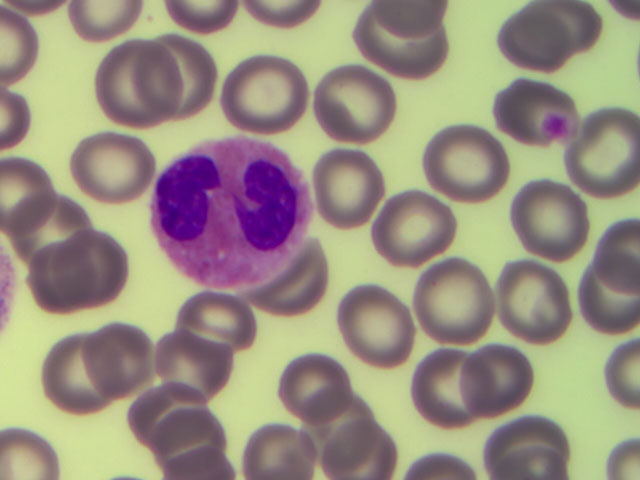Platelets: (540, 110, 574, 147)
RBC: (353, 1, 450, 89), (492, 4, 603, 76), (335, 278, 416, 370), (365, 185, 457, 264), (416, 121, 508, 199), (316, 59, 399, 145), (224, 53, 312, 134), (495, 260, 576, 347), (516, 176, 592, 266), (151, 23, 218, 122), (105, 41, 182, 127), (36, 336, 115, 419), (413, 261, 494, 340), (71, 129, 155, 205), (126, 390, 222, 453), (493, 409, 576, 480), (465, 341, 537, 421), (311, 149, 385, 226), (63, 226, 130, 310), (308, 391, 376, 470), (579, 108, 640, 195), (154, 329, 237, 392), (417, 343, 478, 428), (172, 296, 261, 353), (28, 189, 92, 268), (278, 357, 353, 424), (576, 262, 640, 340), (90, 326, 156, 397), (1, 153, 56, 238), (243, 421, 319, 480), (324, 423, 399, 480), (24, 244, 78, 318), (1, 419, 62, 480), (1, 5, 42, 86), (65, 1, 140, 42), (599, 337, 640, 410), (601, 221, 640, 295), (162, 446, 235, 480), (411, 445, 481, 480), (165, 1, 243, 32), (298, 244, 328, 313), (245, 1, 331, 23), (1, 95, 38, 145), (604, 434, 640, 480)
WBC: (157, 137, 300, 283)
